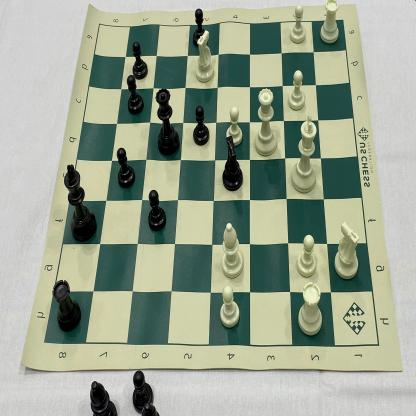black-king: (64, 158, 98, 243), (190, 7, 209, 48)
black-knight: (220, 136, 246, 192)
black-pawn: (144, 185, 169, 234), (116, 145, 137, 192), (191, 102, 212, 149), (124, 74, 146, 115), (131, 40, 150, 81)
black-queen: (152, 84, 182, 158), (295, 233, 320, 280)
black-rook: (51, 274, 85, 335)
white-bishop: (220, 222, 245, 280)
white-king: (289, 112, 321, 195)
white-knight: (331, 221, 363, 281), (193, 28, 216, 87)
white-pawn: (217, 283, 243, 331), (286, 2, 308, 46), (286, 68, 308, 112), (224, 104, 245, 148)
white-queen: (252, 84, 278, 158)
white-rook: (296, 281, 323, 338), (318, 0, 343, 46)
